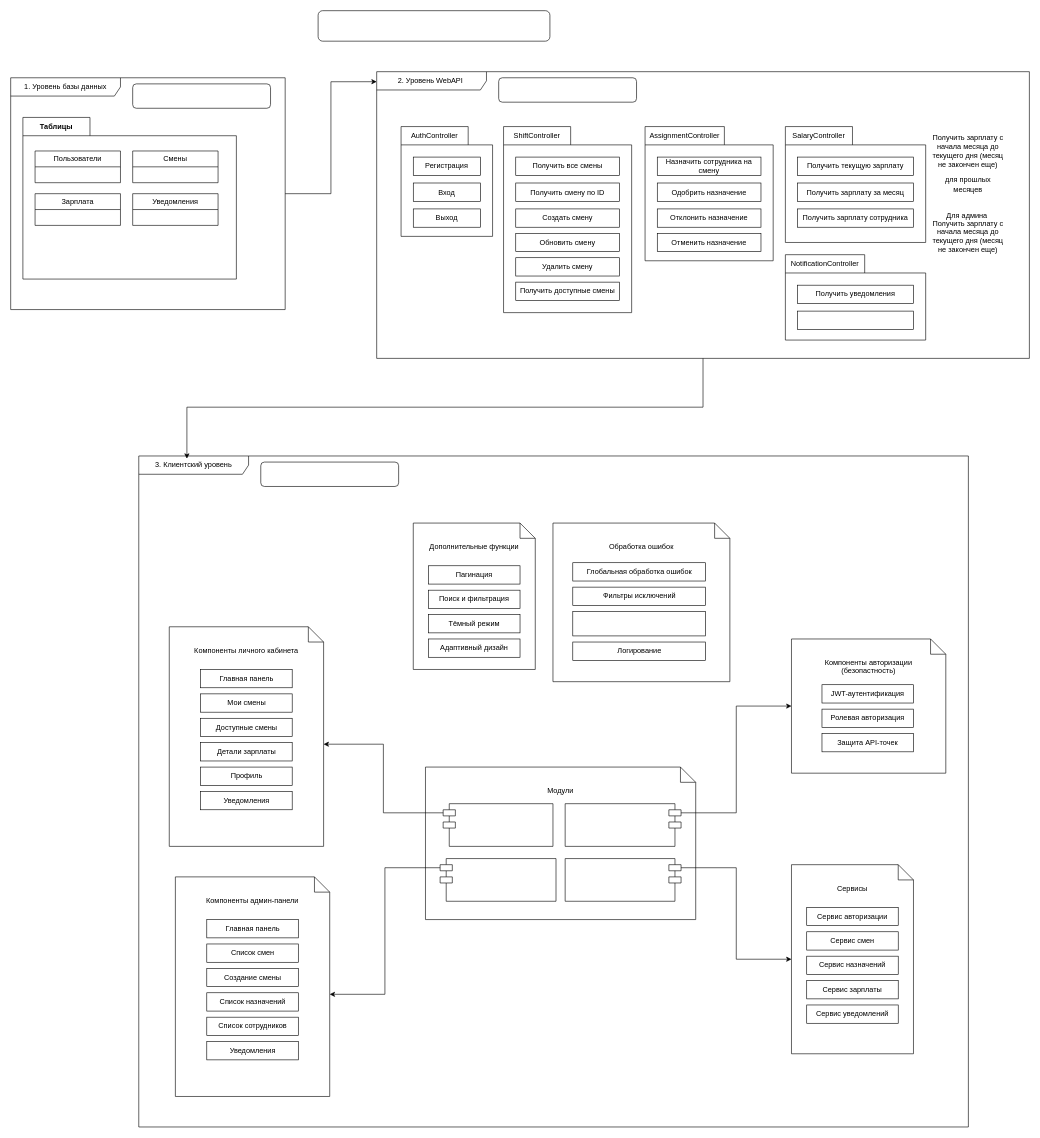
The diagram is 1040 pixels wide and 1138 high, and some of its shapes have lost their labels. Each missing label, with the centre of its shape:
Angular v19: (x=329, y=473)
C# ASP.NET Core: (x=567, y=89)
MySQL, PostgreSQL, SQL Server: (x=201, y=95)
Модуль авторизации: (x=623, y=824)
Модуль админ-панели: (x=498, y=879)
Модуль личного кабинета: (x=498, y=824)
Основной модуль (базовые сервисы и компоненты): (x=623, y=879)
Отметить как прочитанные: (x=855, y=319)
Пользовательские сообщения об ошибках: (x=638, y=623)
Трёхзвенная архитектура приложения учёта рабочего времени: (x=434, y=25)
